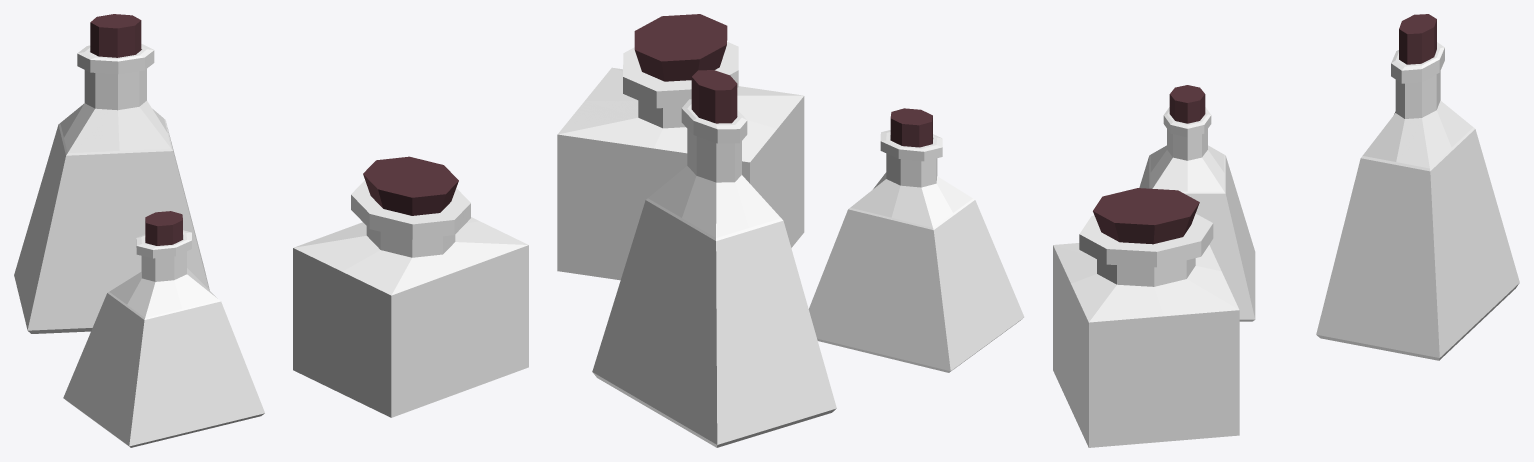
Rendered from poçõesv1.fbx.
3 renders of one model, left to right at view 1: azimuth 30°, elevation 25°; view 2: azimuth 150°, elevation 25°; view 3: azimuth 270°, elevation 25°, orthographic. The views are drawn at different scales.
Visible parts, largest first — view 1: PoçãoTriangular.005; view 2: PoçãoTriangular.005; view 3: PoçãoTriangular.005.
Boxes of the visible parts, x1,y1,x2,y2 form: PoçãoTriangular.005: [14, 14, 528, 447]; PoçãoTriangular.005: [557, 14, 1024, 447]; PoçãoTriangular.005: [1053, 14, 1519, 447].
Size of the model in its own units: 0.3882 by 0.28 by 0.3981.
